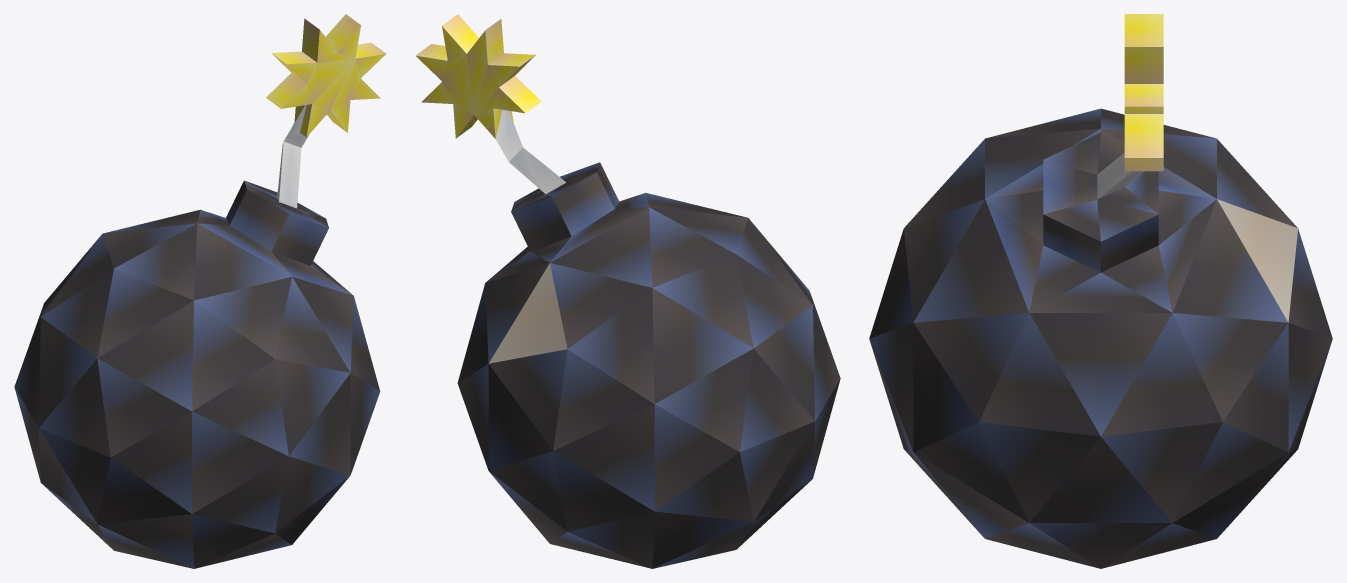
Rendered from bomb.fbx.
The picture shows the model from 3 angles, left to right: view 1: azimuth 30°, elevation 25°; view 2: azimuth 150°, elevation 25°; view 3: azimuth 270°, elevation 25°; orthographic projection. The views are drawn at different scales.
Visible parts, largest first — view 1: bomb; view 2: bomb; view 3: bomb.
Boxes of the visible parts, <box> form: bomb: <box>14,14,386,568</box>; bomb: <box>415,14,840,568</box>; bomb: <box>869,14,1332,568</box>.
Bounding box in the file's own units: 107 × 140 × 95.2.
